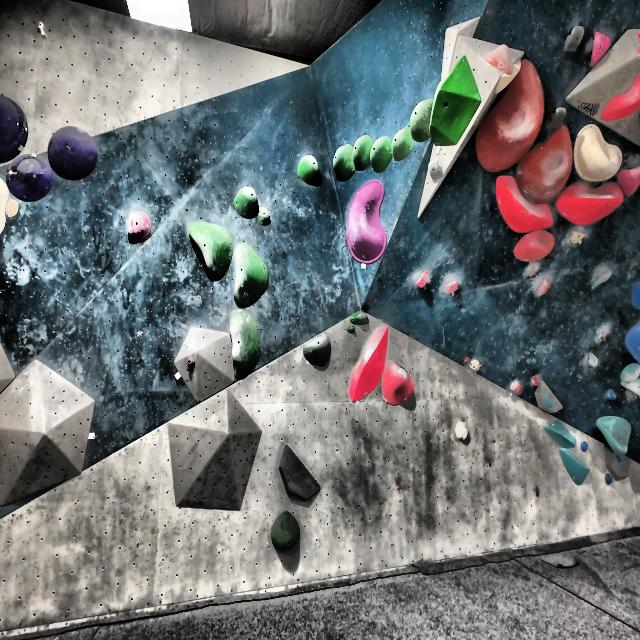Hold: (477, 60, 543, 172), (430, 54, 480, 150), (517, 127, 574, 203), (345, 322, 394, 408), (496, 173, 556, 233), (346, 180, 386, 264), (557, 181, 622, 232), (224, 303, 263, 378), (182, 226, 232, 284), (50, 121, 99, 180), (576, 123, 624, 182), (280, 444, 325, 500), (230, 242, 268, 308), (598, 70, 638, 124), (383, 356, 418, 408), (299, 323, 336, 372), (4, 153, 49, 193), (0, 91, 26, 160), (506, 229, 556, 260), (596, 414, 632, 455), (270, 508, 300, 554), (481, 46, 522, 76), (560, 448, 591, 486), (410, 95, 433, 142), (543, 420, 580, 448), (370, 134, 393, 178), (588, 32, 612, 69), (333, 139, 352, 184), (619, 359, 640, 398), (296, 157, 323, 186), (126, 210, 150, 242), (616, 166, 640, 198), (392, 123, 411, 163), (544, 105, 569, 134), (353, 132, 372, 170), (560, 26, 585, 52), (626, 319, 640, 360), (590, 269, 616, 291), (235, 187, 255, 215), (413, 263, 432, 288), (592, 325, 612, 346), (453, 418, 468, 445), (467, 356, 482, 380), (443, 276, 458, 296), (346, 312, 370, 324), (186, 353, 202, 370), (538, 278, 553, 296), (564, 234, 586, 245), (539, 393, 555, 407), (586, 350, 599, 367), (507, 383, 525, 395), (600, 390, 618, 401), (530, 370, 541, 386), (346, 323, 356, 338)
